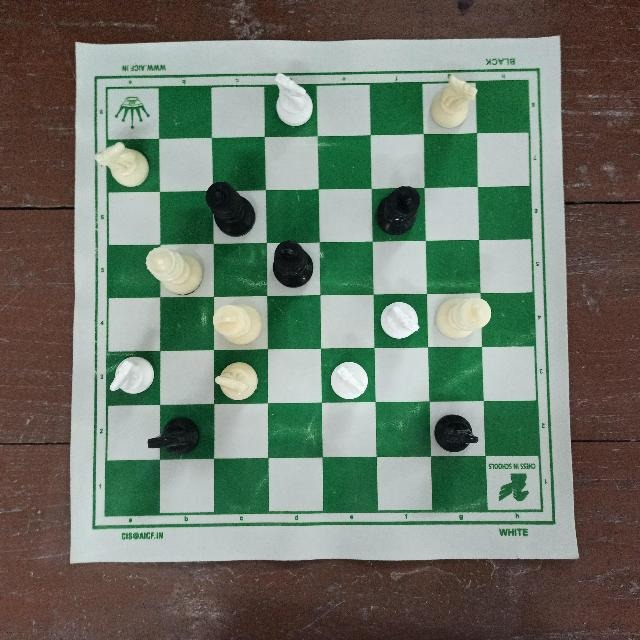black-king: (202, 176, 257, 237), (374, 184, 424, 238), (268, 234, 318, 283)
black-knight: (429, 402, 490, 458), (143, 409, 205, 460)
white-king: (213, 291, 269, 351), (435, 295, 490, 343)
white-knight: (93, 137, 161, 186), (428, 69, 482, 129), (110, 351, 162, 409), (214, 350, 263, 406), (269, 70, 314, 130), (327, 360, 372, 402), (381, 299, 423, 340)
white-queen: (144, 241, 210, 294)
